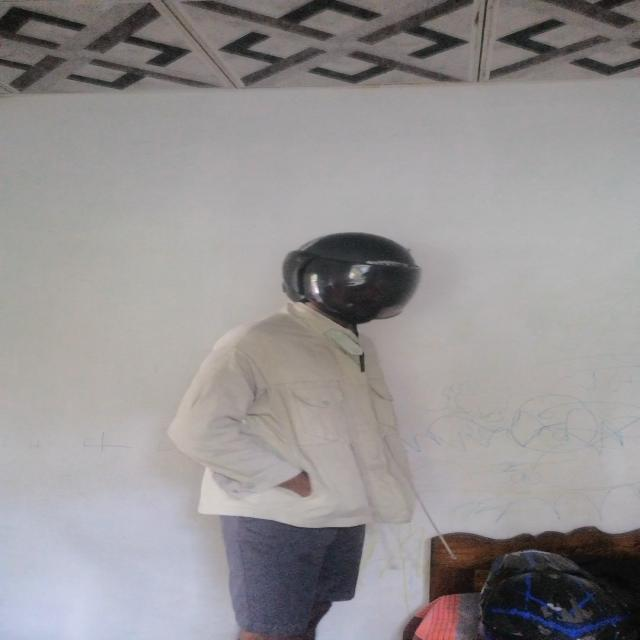Helmet_Wearer: (262, 224, 425, 307)
Jacket_Wearer: (161, 299, 449, 525)
Person: (165, 207, 465, 638)
